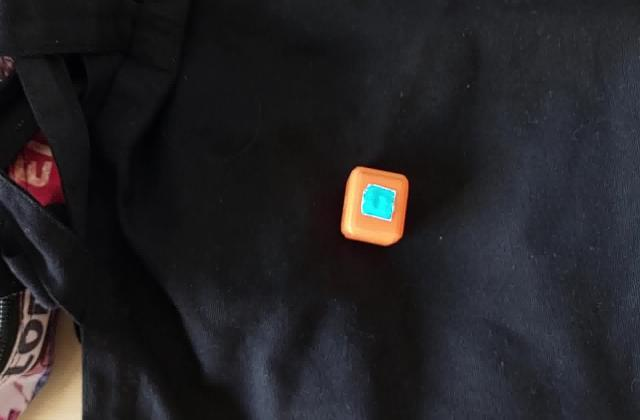blue: (369, 189, 392, 216)
sticker: (337, 162, 410, 250)
